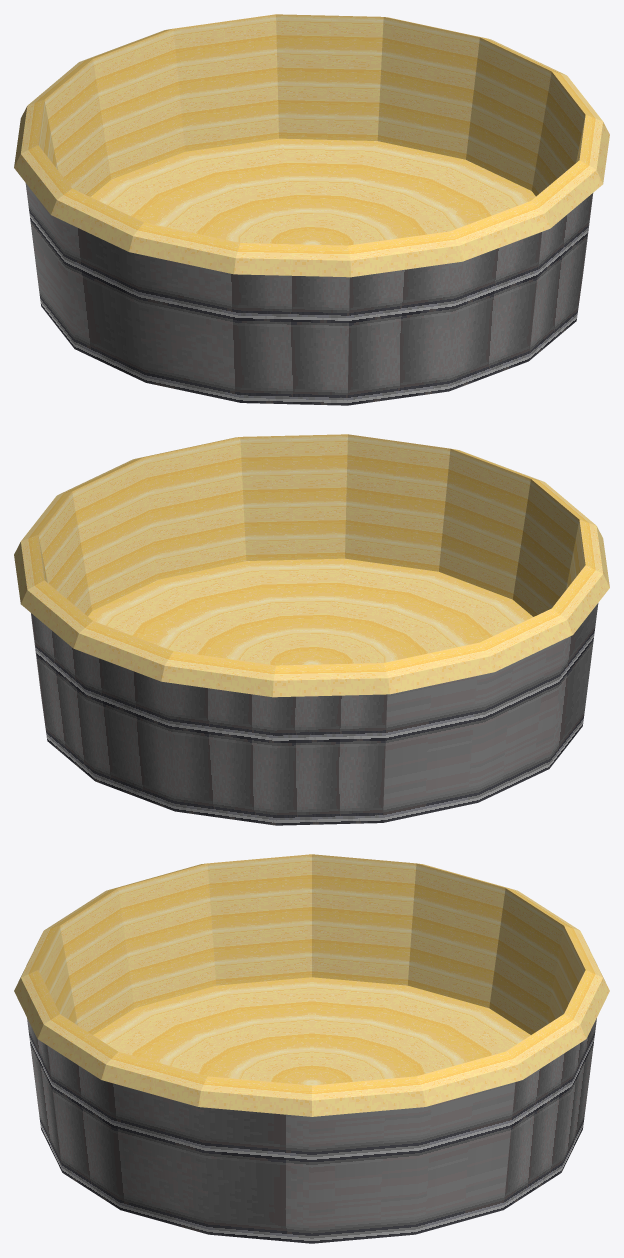
Rendered from marupie.gltf.
The picture shows the model from 3 angles, top to bottom: view 1: azimuth 30°, elevation 25°; view 2: azimuth 150°, elevation 25°; view 3: azimuth 270°, elevation 25°; orthographic projection.
Parts seen in each view (by area): view 1: marupie; view 2: marupie; view 3: marupie.
Boxes of the visible parts, <box> form: marupie: <box>14,14,609,405</box>; marupie: <box>14,434,609,825</box>; marupie: <box>14,854,609,1243</box>.
Size of the model in its own units: 0.7051 by 0.208 by 0.7051.
Materials: 2 (2 with a texture image).
